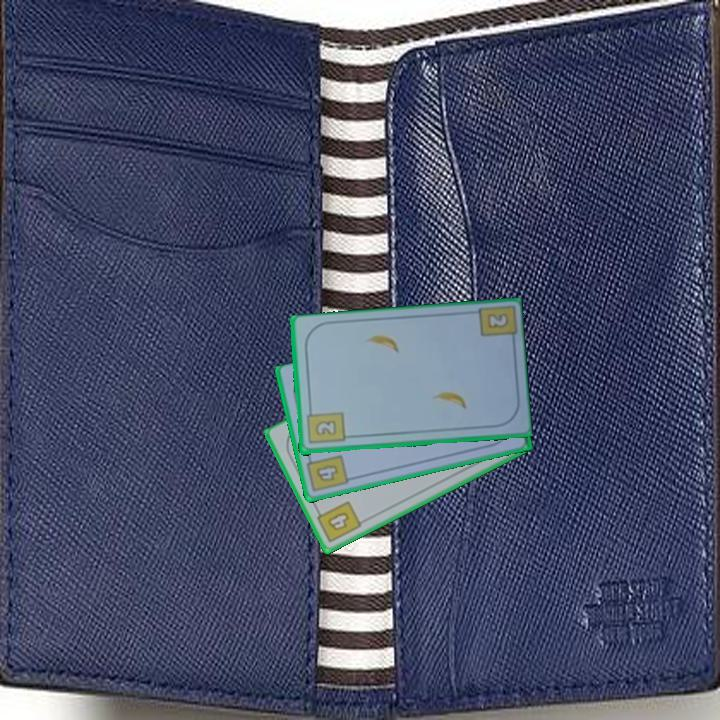2b: (303, 405, 347, 447), (483, 309, 512, 332)
4b: (312, 497, 364, 546), (304, 451, 351, 495)
